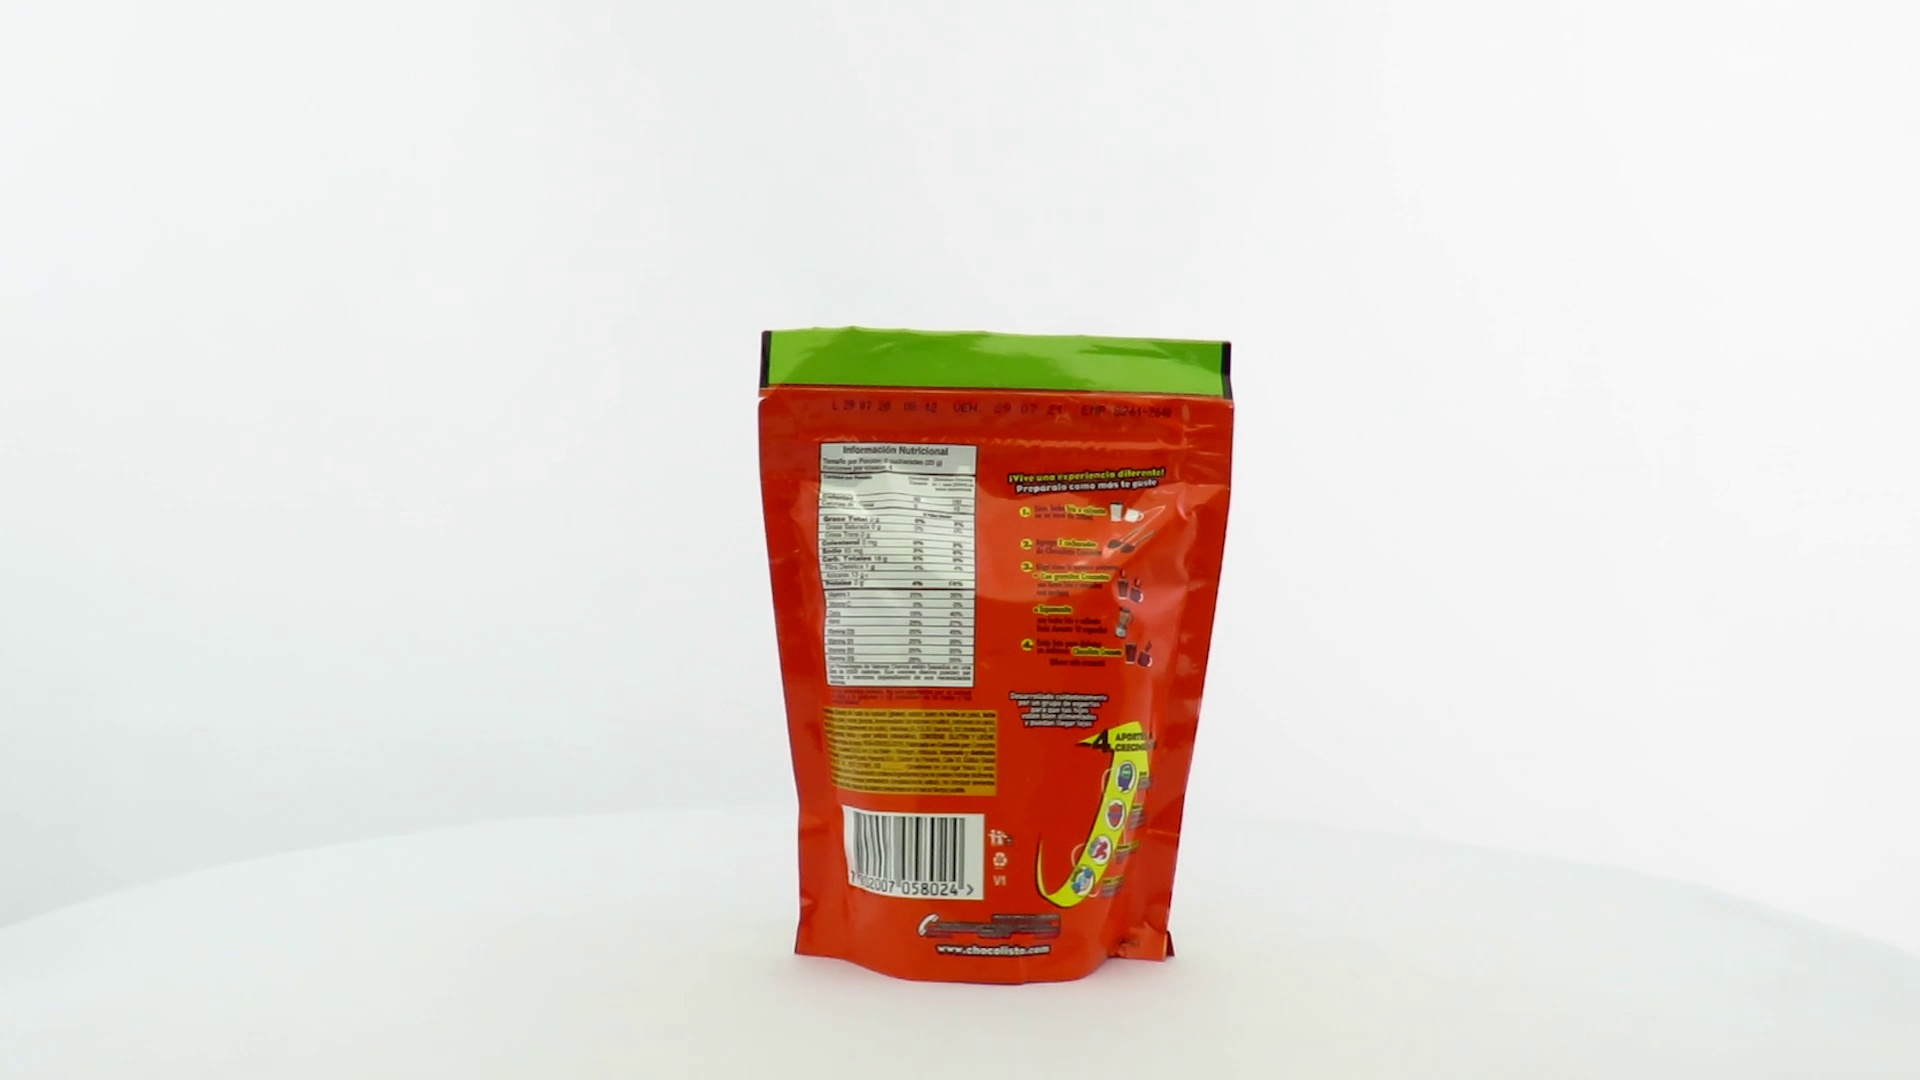COL0170102DYP10000: (753, 320, 1241, 992)
